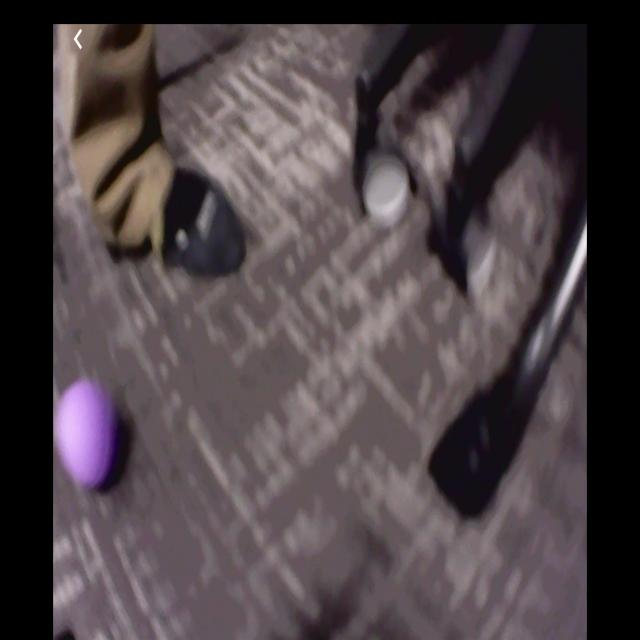ball: (55, 380, 120, 485)
